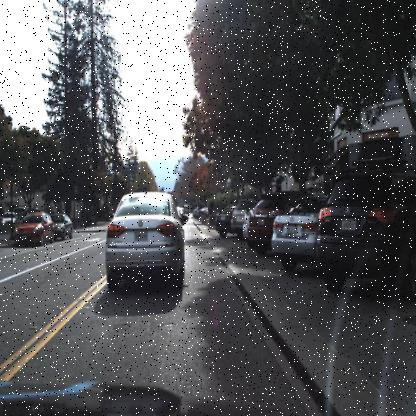car: (317, 158, 415, 298), (106, 191, 184, 294), (270, 196, 318, 268), (13, 213, 55, 245), (248, 198, 270, 258), (216, 201, 231, 239), (231, 201, 245, 241), (56, 213, 72, 240)
